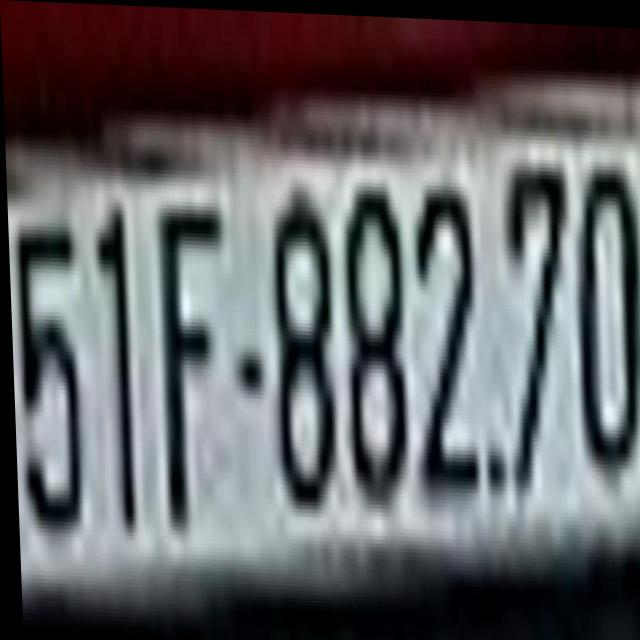0: (572, 151, 640, 460)
1: (92, 186, 142, 536)
2: (407, 185, 477, 509)
5: (13, 217, 82, 549)
7: (500, 161, 574, 512)
8: (268, 184, 335, 524), (337, 178, 406, 506)
F: (154, 188, 232, 535)
